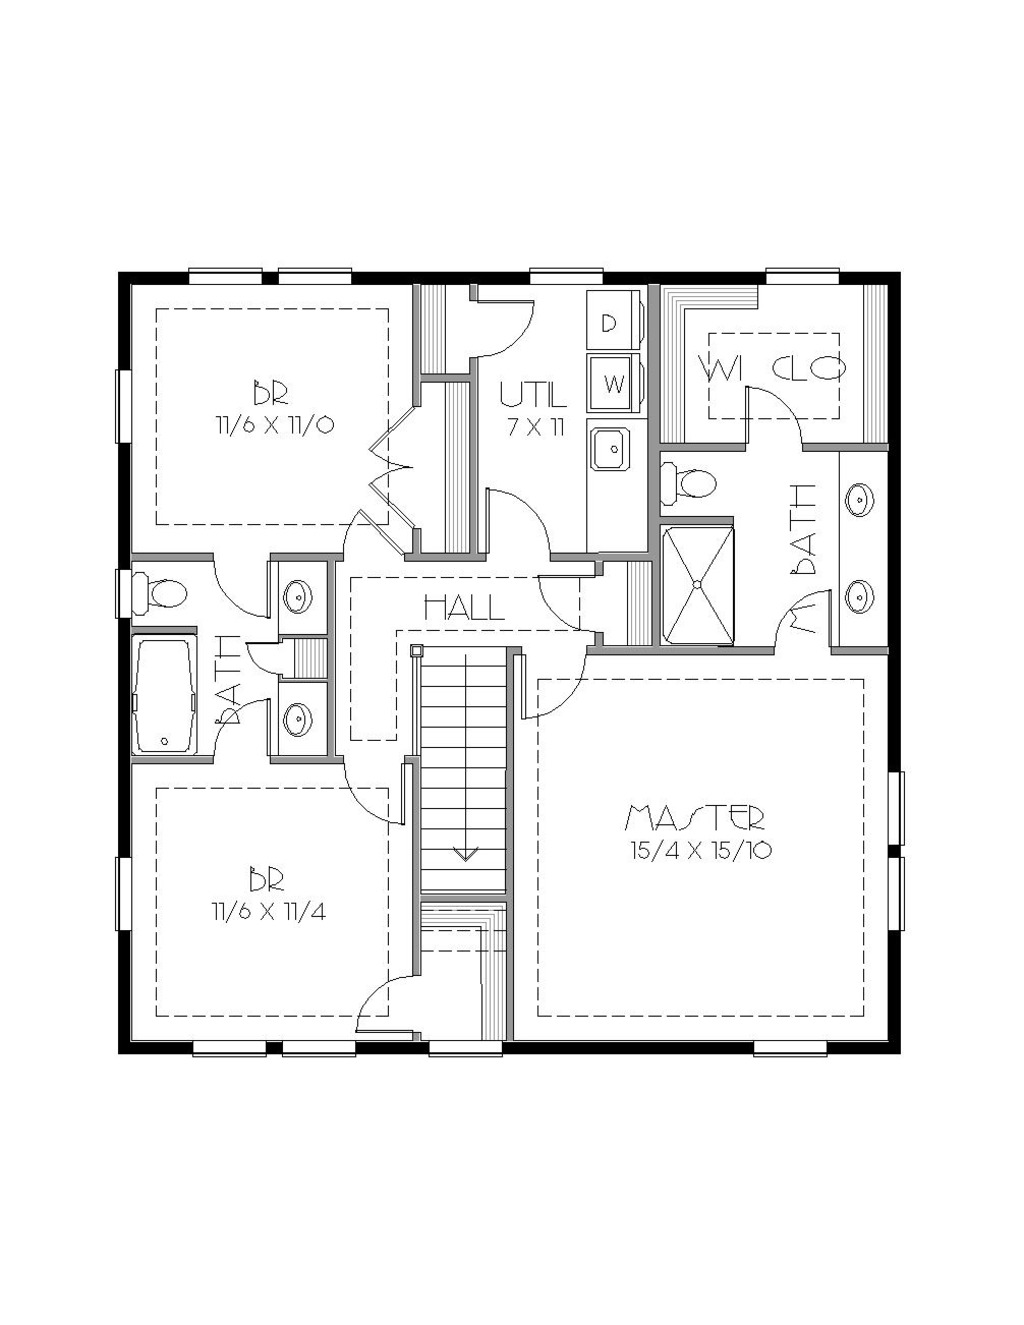door: (355, 407, 431, 523), (741, 370, 837, 462), (521, 639, 605, 725), (482, 482, 557, 568), (343, 743, 415, 829), (202, 694, 280, 768), (198, 541, 270, 621), (349, 972, 433, 1037), (766, 578, 837, 653), (545, 580, 623, 643), (468, 298, 534, 368), (337, 510, 402, 559), (237, 629, 294, 684)
large_sink: (659, 447, 731, 508), (136, 559, 198, 619)
small_sink: (582, 408, 643, 515), (845, 562, 886, 637), (272, 698, 323, 755), (282, 562, 321, 637), (841, 480, 884, 539)
stairs: (406, 643, 525, 972)
tub: (660, 525, 737, 651), (137, 635, 202, 772)
window: (880, 772, 908, 935), (531, 257, 608, 294), (760, 259, 847, 290), (274, 263, 360, 286), (176, 268, 266, 282)
